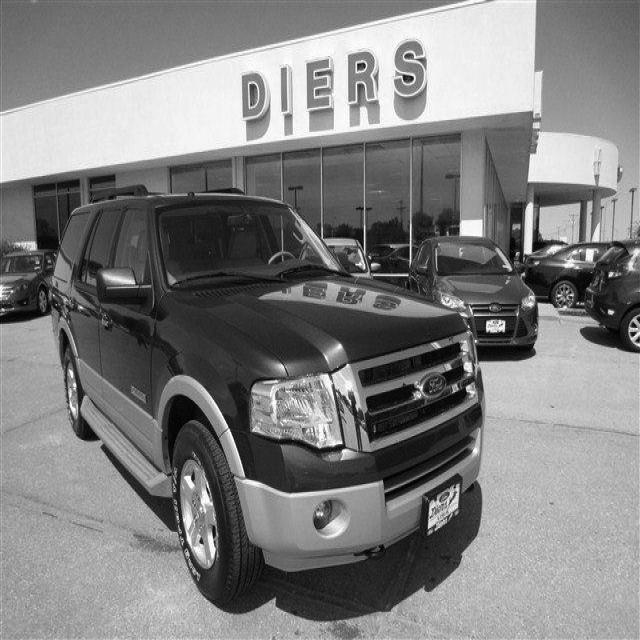car: (51, 189, 507, 594), (405, 222, 543, 363), (520, 236, 640, 311), (0, 248, 57, 317)
